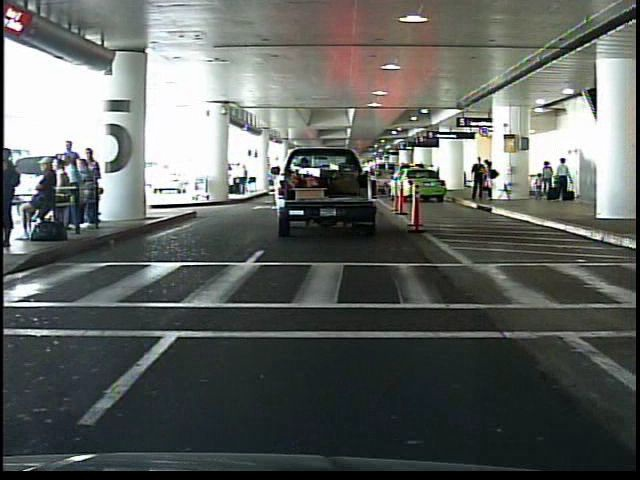person: (469, 154, 487, 206), (483, 160, 499, 203)
